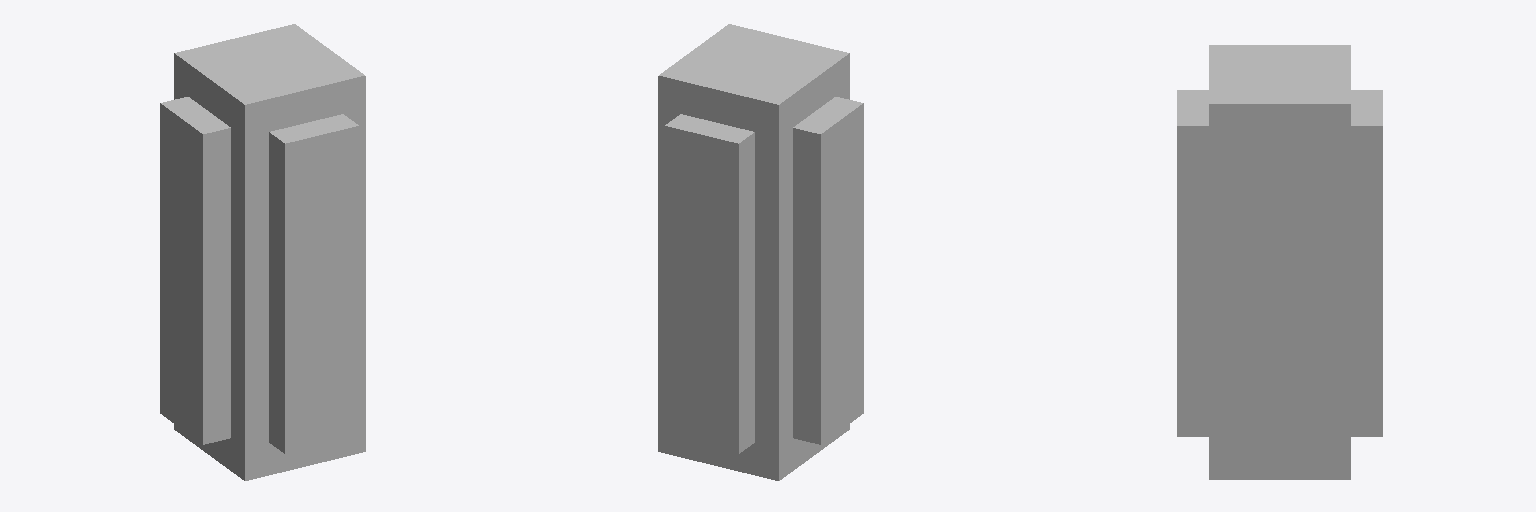
File: envirosuit_arm_right_WIP.obj
The picture shows the model from 3 angles: view 1: azimuth 30°, elevation 25°; view 2: azimuth 150°, elevation 25°; view 3: azimuth 270°, elevation 25°; orthographic projection.
Visible parts, largest first — view 1: Arm_Right_Cube.020; view 2: Arm_Right_Cube.020; view 3: Arm_Right_Cube.020.
Boxes of the visible parts, x1=… form: Arm_Right_Cube.020: x1=160, y1=24, x2=365, y2=480; Arm_Right_Cube.020: x1=658, y1=24, x2=863, y2=480; Arm_Right_Cube.020: x1=1177, y1=45, x2=1382, y2=479.
Bounding box in the file's own units: 0.625 × 1.52 × 0.75.